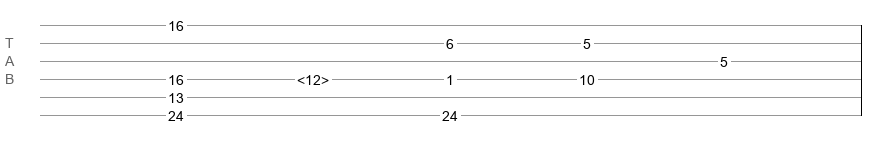1: (446, 72, 454, 82)
10: (579, 72, 595, 82)
13: (168, 90, 184, 100)
16: (168, 18, 184, 28), (168, 72, 184, 82)
24: (168, 108, 184, 118), (442, 108, 458, 118)
5: (583, 36, 591, 46), (720, 54, 728, 64)
6: (446, 36, 454, 46)
harmonic: (297, 72, 329, 82)
